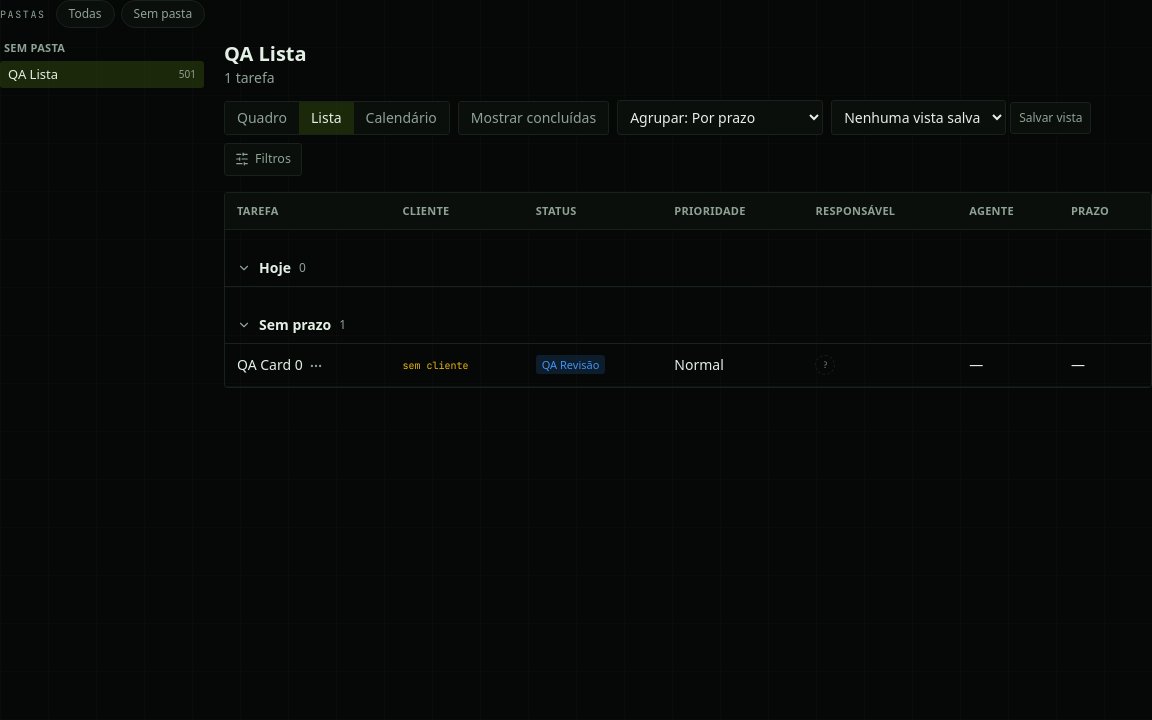
Scenario: ROOT-12: lista e quadro Work › sem ver não consulta; sem editar desabilita edição; troca de token remove cards anteriores
Click the button "QA Card 0". click: (270, 365)
box: [237,355,303,375]
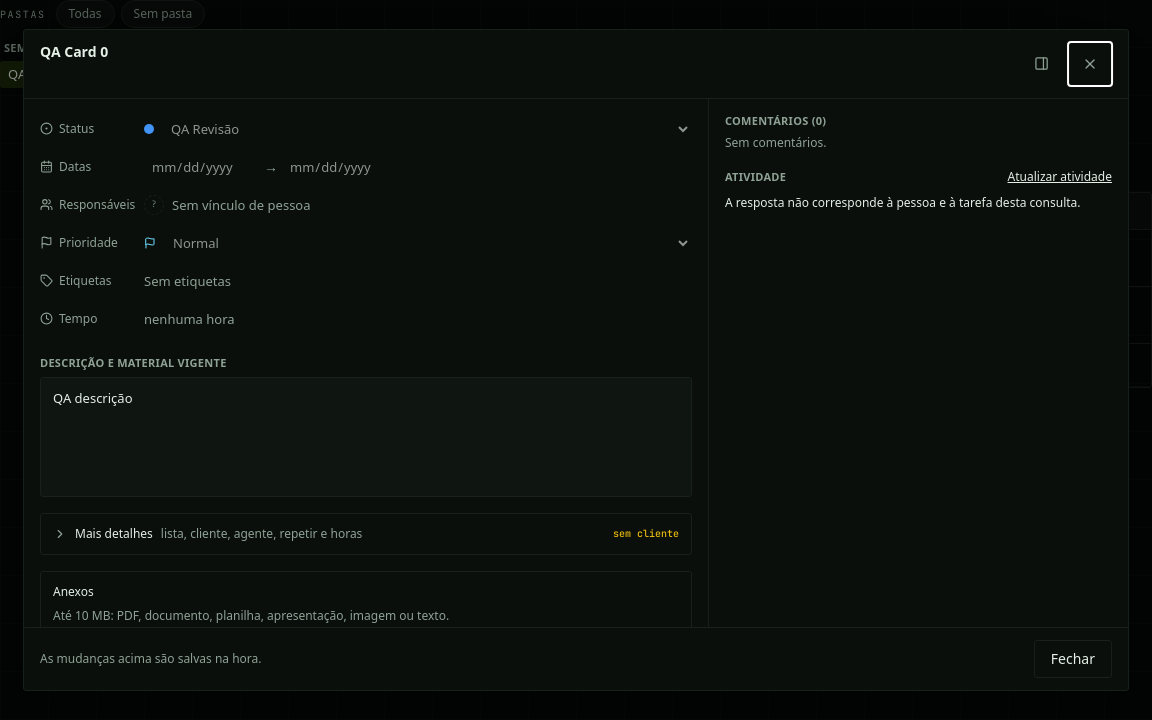
Check: the field named "Título da tarefa" is disabled, box [40,42,1012,62]
